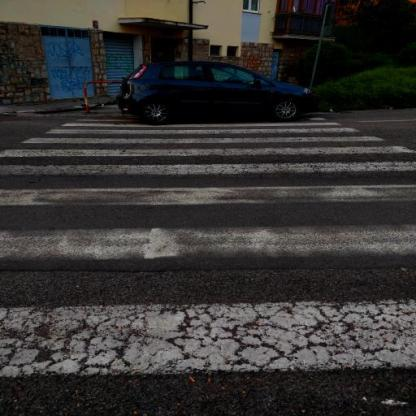crosswalk: (0, 177, 416, 276), (13, 126, 388, 148)
